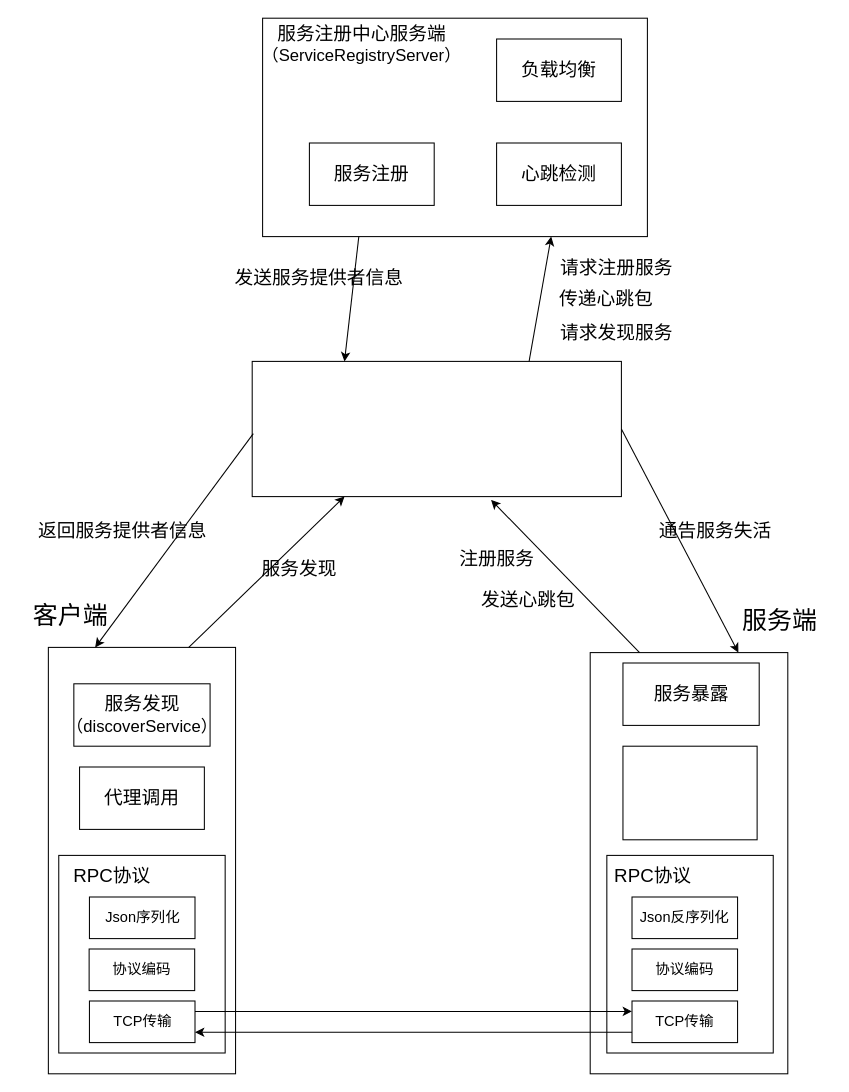
This 849x1092 diagram has some shape labels left out. Here are the shapes that lost their labels. From the top down, the centre of each, then its label:
At (x=436, y=428): "服务注册中心客户端 （ServiceRegistryClient）".
At (x=689, y=792): "线程池".
